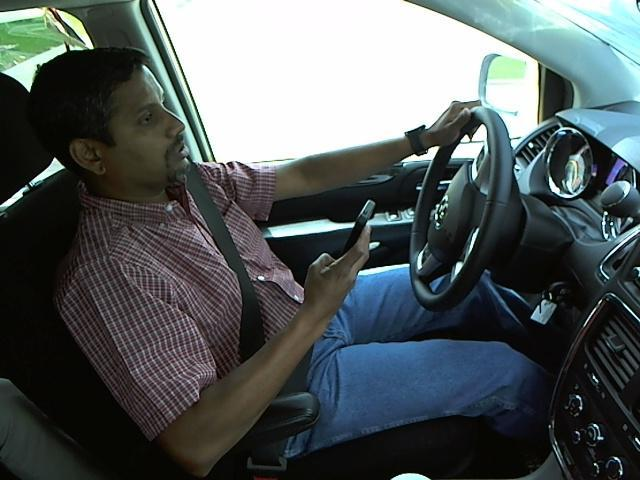PhoneUse: (339, 191, 378, 268)
